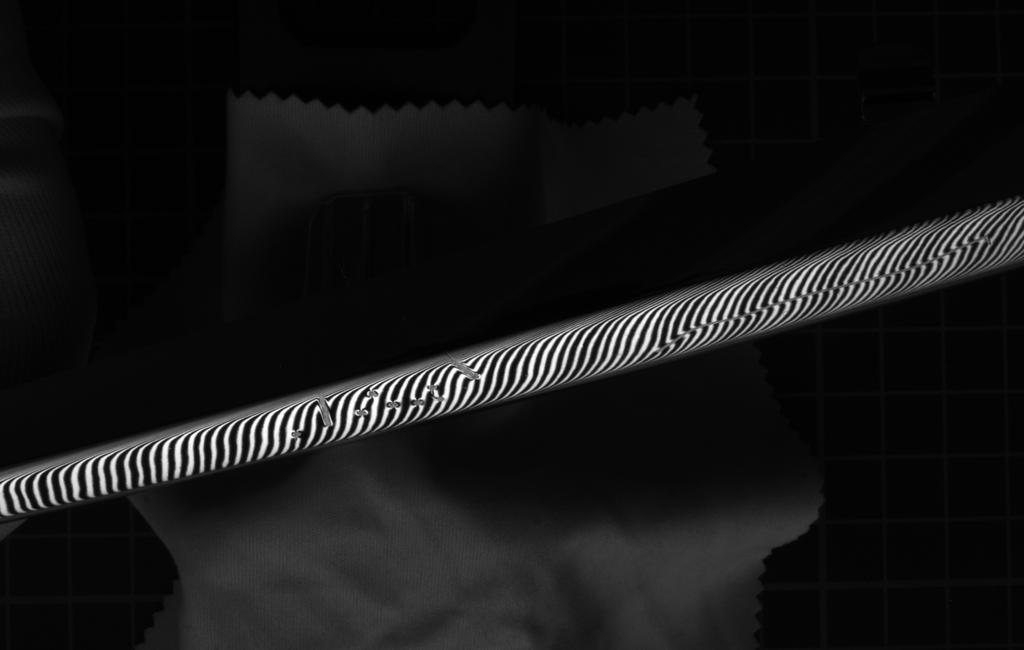Pierced: (346, 403, 375, 425), (361, 383, 385, 403), (405, 393, 429, 411), (284, 426, 307, 444), (383, 395, 400, 413)
Scratch: (651, 222, 1024, 363), (442, 350, 489, 384), (309, 391, 342, 433), (424, 376, 453, 409)
